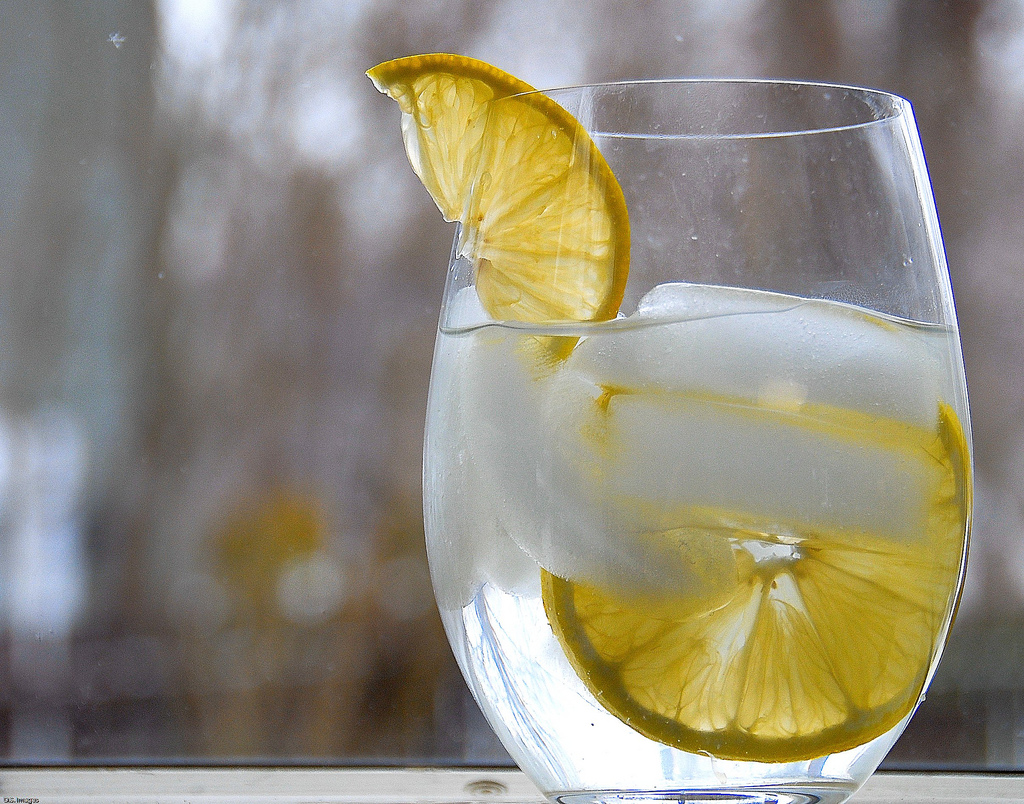glass of water: (380, 66, 977, 804)
